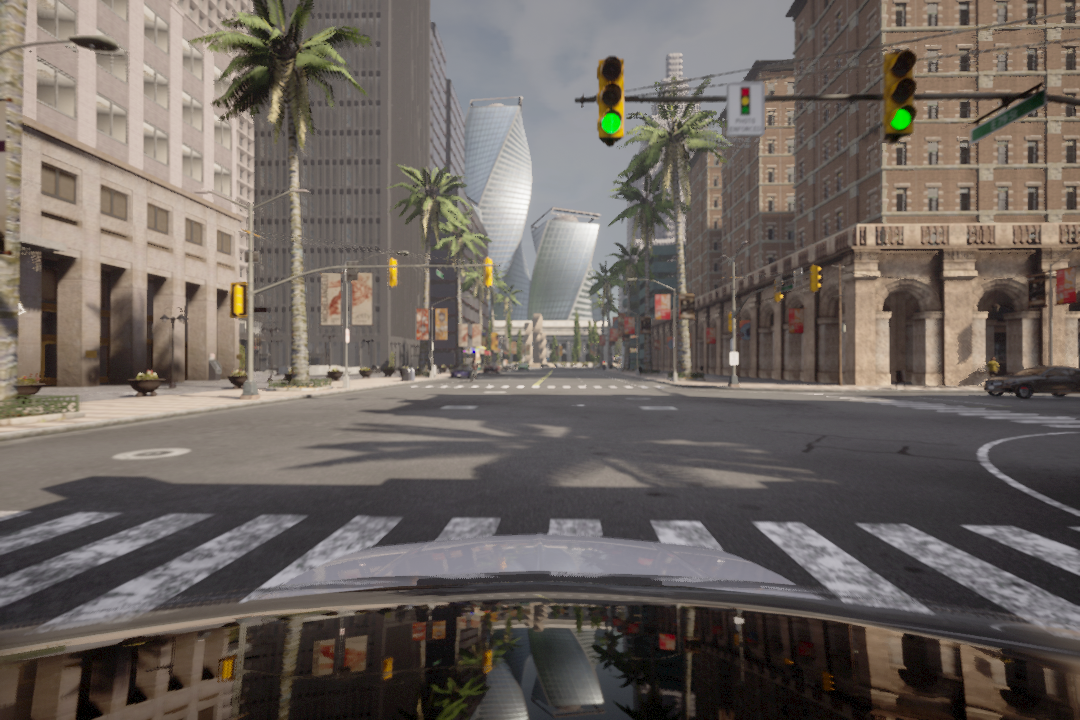TrafficLight: (882, 49, 914, 137), (597, 59, 627, 142)
walkside: (1, 507, 1080, 645)
